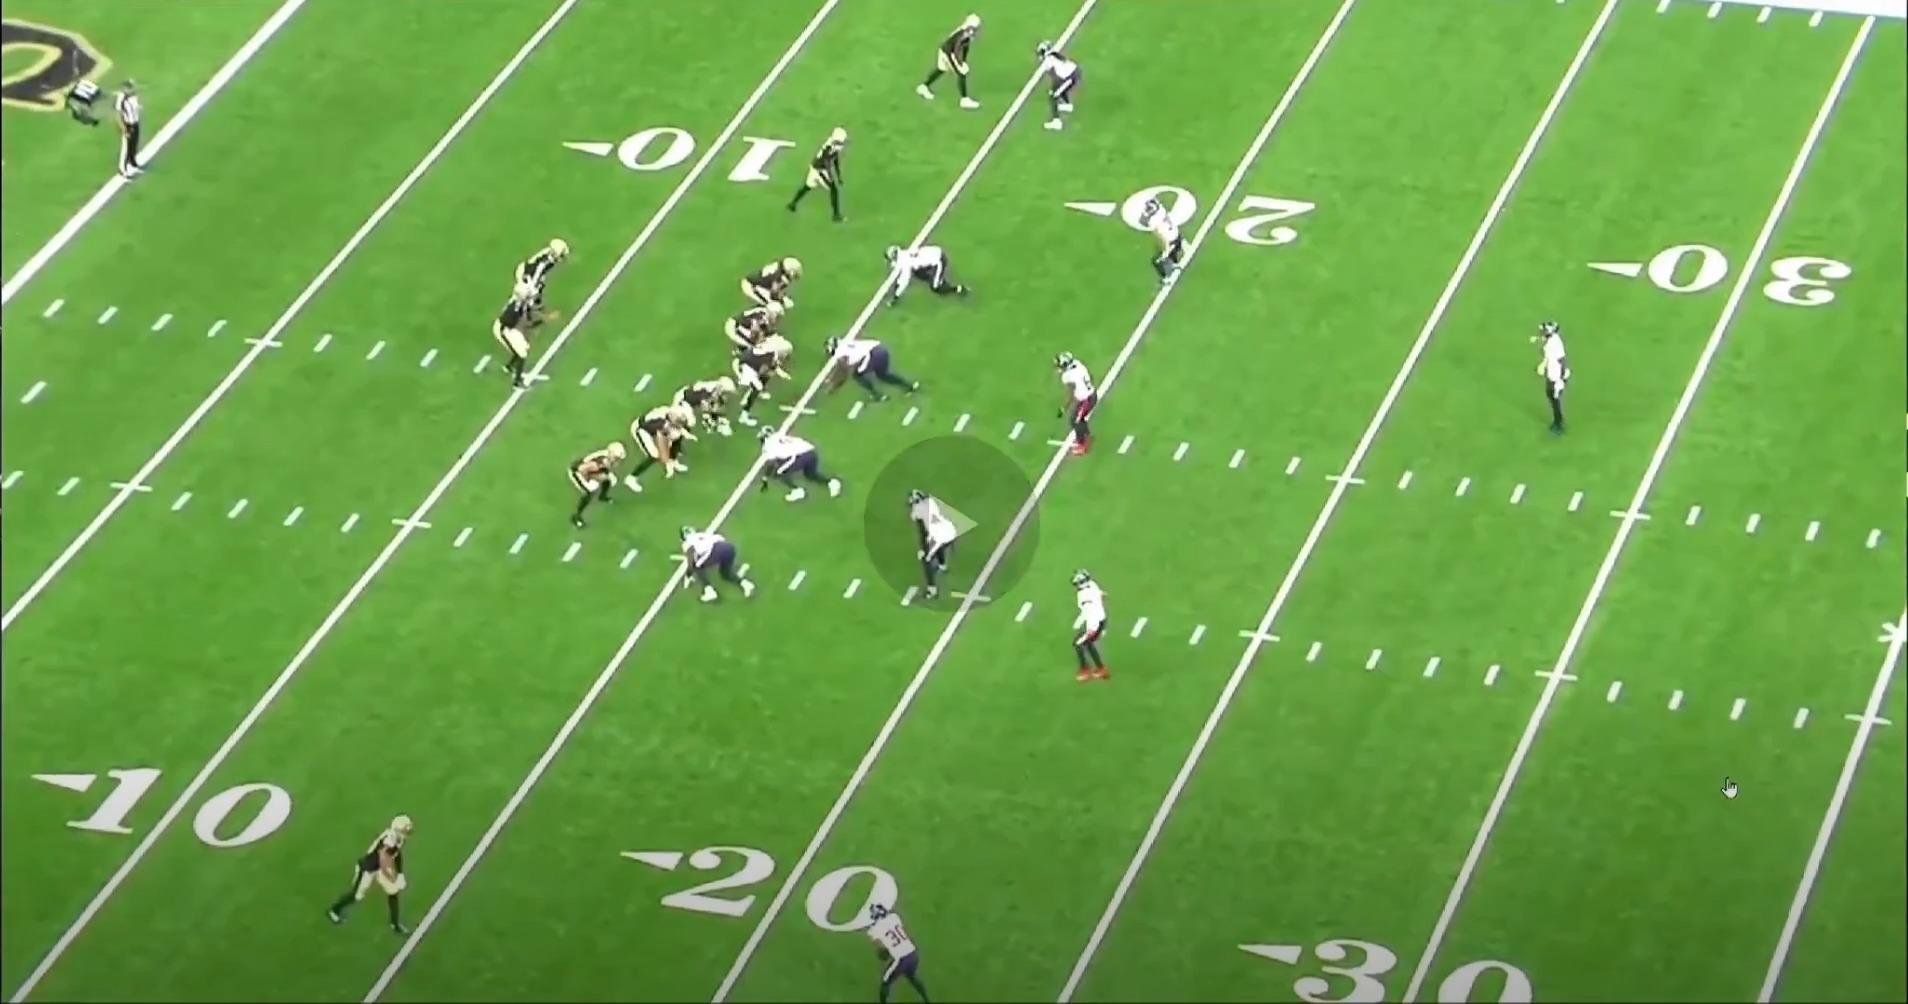player: (327, 813, 426, 947), (753, 422, 852, 509), (669, 524, 760, 614), (853, 900, 930, 1004), (918, 9, 994, 114), (824, 331, 927, 406), (791, 123, 864, 226), (496, 272, 557, 393), (909, 486, 967, 600), (621, 403, 694, 492), (1071, 565, 1121, 690), (565, 437, 630, 530), (1535, 314, 1584, 436), (725, 333, 795, 418), (888, 242, 976, 308), (513, 238, 570, 337), (1051, 351, 1099, 464), (1039, 38, 1091, 134), (1138, 200, 1190, 296), (675, 375, 743, 443), (742, 252, 811, 308), (725, 299, 790, 351)
ref: (114, 76, 156, 186)
